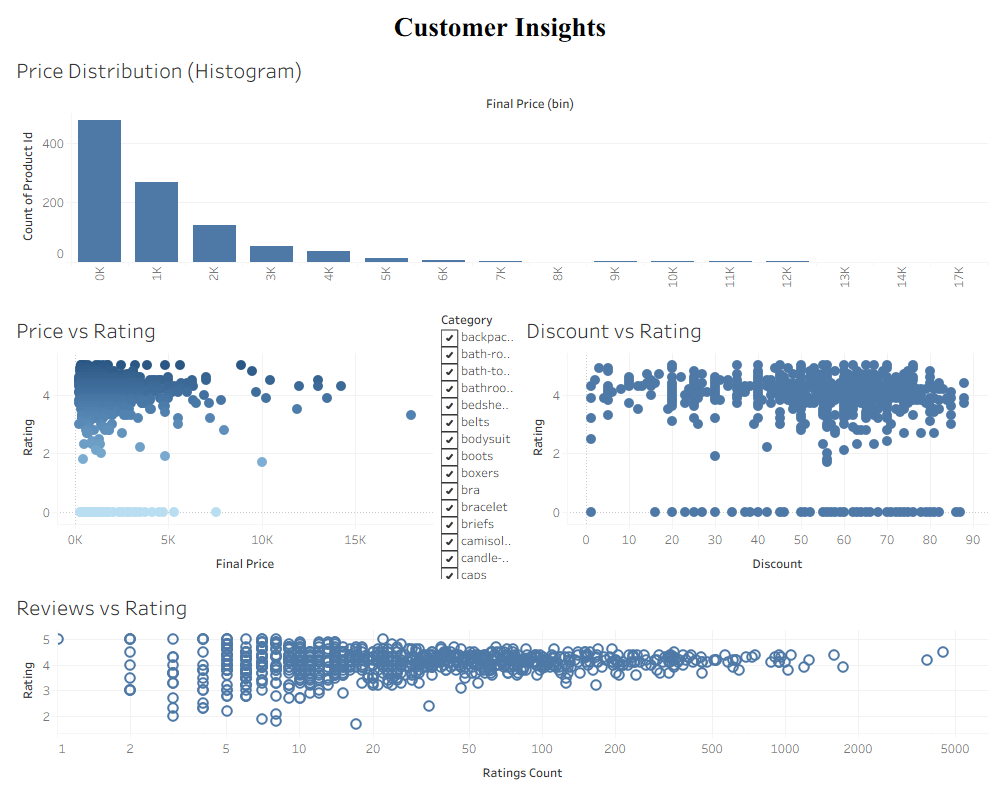

Layout of this report page (visuals, bound fields, positions):
{"tool":"tableau","page":{"name":"Customer Engagement Analysis","canvas":[1000,800],"ordinal":1},"visuals":[{"type":"text","box":[8,8,984,38]},{"type":"worksheet","title":"Price Distribution (Histogram)","mark":"Automatic","rows":["product_id"],"cols":["Final Price (bin)"],"box":[8,46,984,260]},{"type":"worksheet","title":"Price vs Rating","mark":"Circle","rows":["rating"],"cols":["final_price"],"box":[8,306,429,277]},{"type":"filter","title":"Price vs Rating","param":"[federated.080lki30rhobxq1dyuu9x0anpw03].[none:category:nk]","box":[437,306,81,277]},{"type":"worksheet","title":"Discount vs Rating","mark":"Circle","rows":["rating"],"cols":["discount"],"box":[518,306,474,277]},{"type":"worksheet","title":"Reviews vs Rating","mark":"Automatic","rows":["rating"],"cols":["ratings_count"],"box":[8,583,984,209]}]}

Visuals, with their boxes in screenshot pixels (x1, y1, x2, y2), scaled from the page's 1000x800 canvas onto the 1000x800 screenshot:
text: {"left": 8, "top": 8, "right": 992, "bottom": 46}
"Price Distribution (Histogram)" worksheet: {"left": 8, "top": 46, "right": 992, "bottom": 306}
"Price vs Rating" worksheet (Circle marks): {"left": 8, "top": 306, "right": 437, "bottom": 583}
"Price vs Rating" filter: {"left": 437, "top": 306, "right": 518, "bottom": 583}
"Discount vs Rating" worksheet (Circle marks): {"left": 518, "top": 306, "right": 992, "bottom": 583}
"Reviews vs Rating" worksheet: {"left": 8, "top": 583, "right": 992, "bottom": 792}
